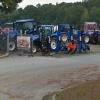Tractor: (8, 24, 97, 59)
